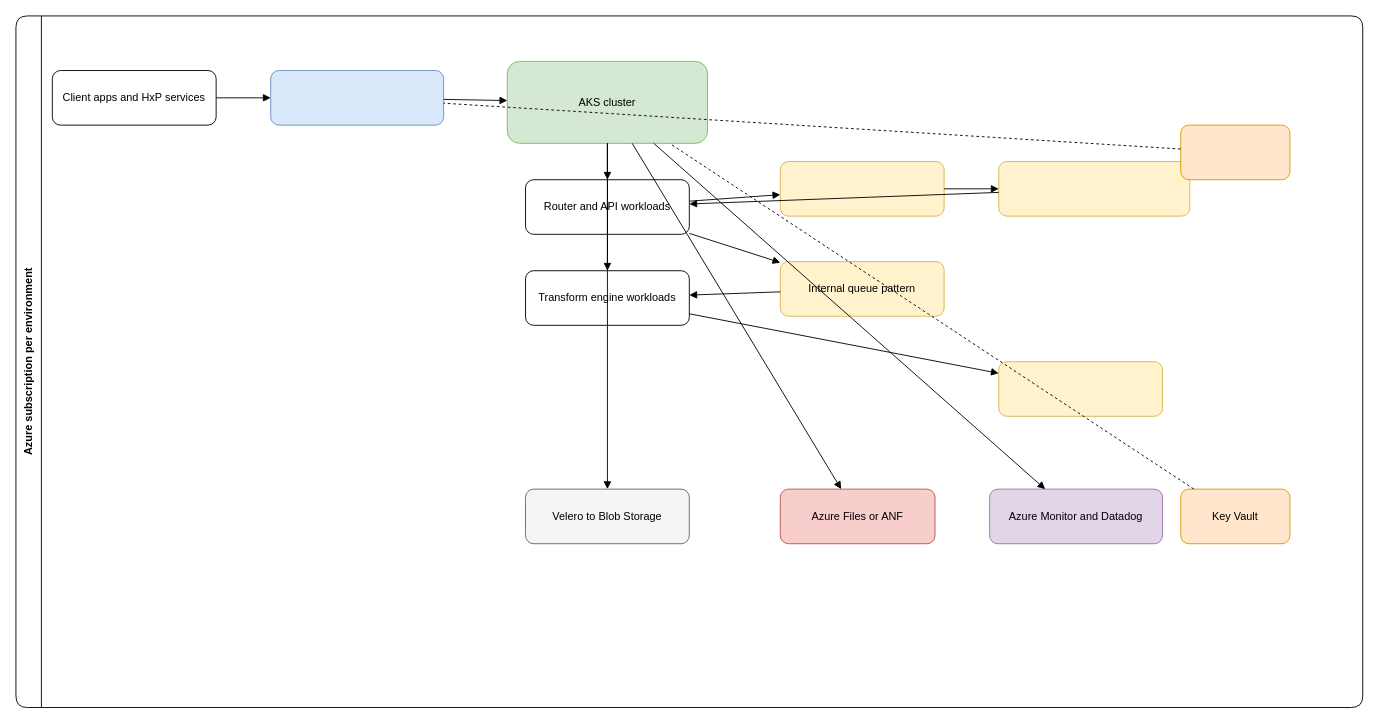
The diagram is 1379 pixels wide and 723 high, and some of its shapes have lost their labels. Each missing label, with the centre of its shape:
"Application Gateway and WAF" belongs at pixel 357 97.
"Azure DNS" belongs at pixel 1235 152.
"Reply queue or topic" belongs at pixel 1080 388.
"Request queues or subscriptions" belongs at pixel 1094 188.
"Service Bus request topic" belongs at pixel 861 188.
